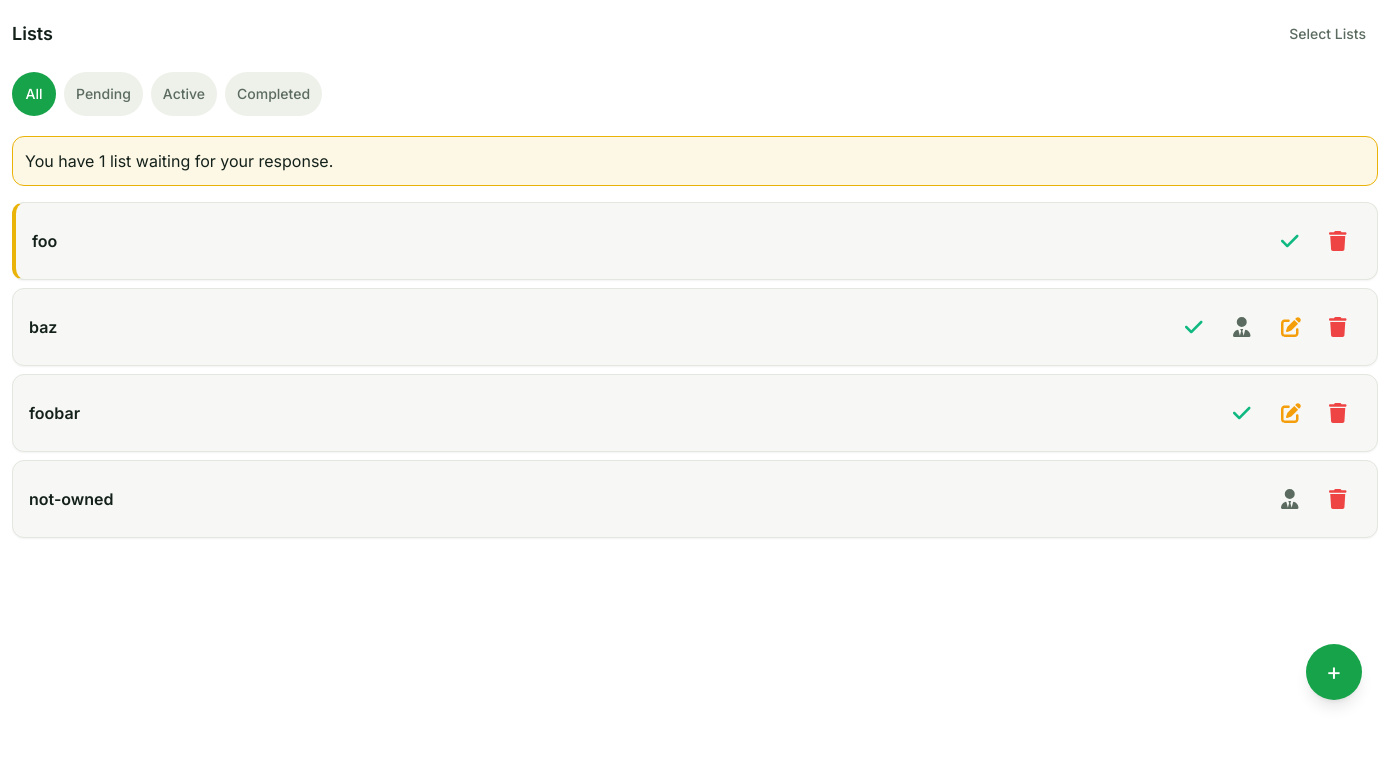
Scenario: ListsContainer › shows empty state when completed filter has no lists
The image size is (1390, 780).
Click the button with test id "filter-completed": (274, 94) x1=225 y1=72 x2=322 y2=116
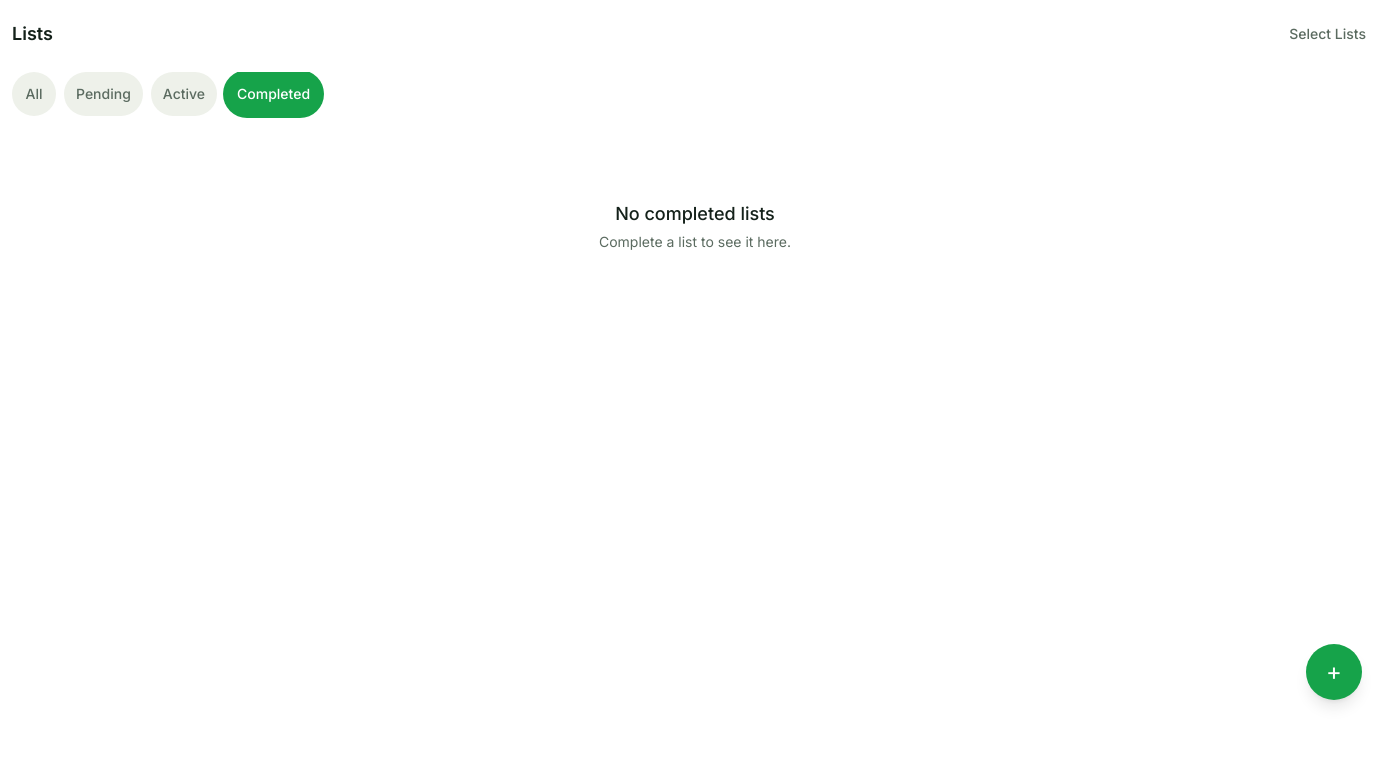
Check: the element with test id "empty-state" is shown, box x1=599 y1=203 x2=791 y2=250
